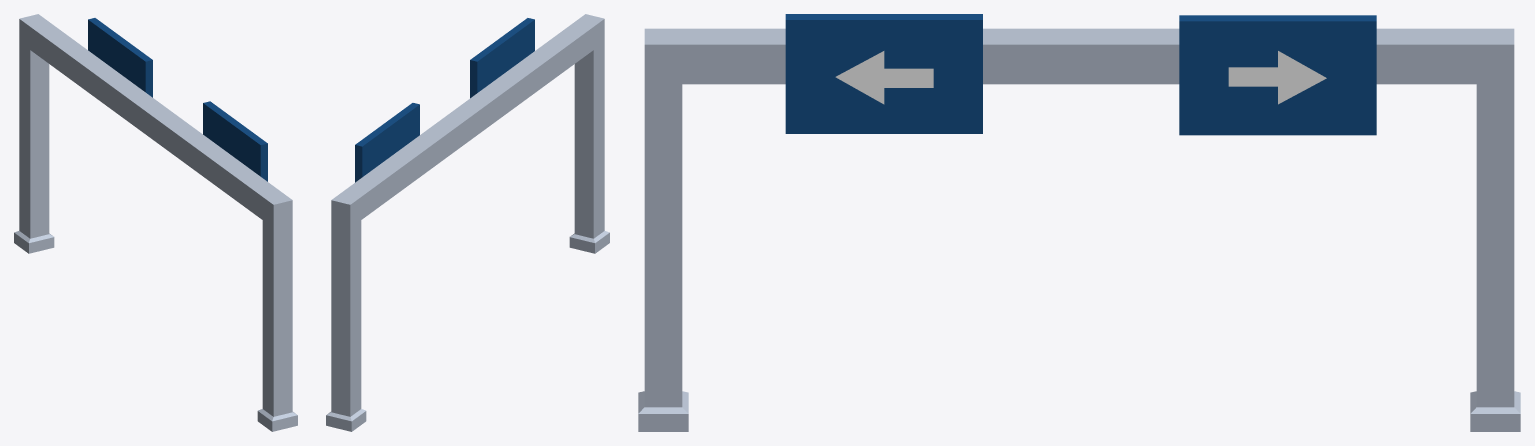
The model's file is direction.fbx.
3 views of the same model, side by side, from view 1: azimuth 30°, elevation 25°; view 2: azimuth 150°, elevation 25°; view 3: azimuth 270°, elevation 25° (orthographic). The views are drawn at different scales.
Visible parts, largest first — view 1: Cube; view 2: Cube; view 3: Cube.
Boxes of the visible parts, <box> form: Cube: <box>14,14,297,431</box>; Cube: <box>326,14,609,431</box>; Cube: <box>638,14,1520,431</box>.
Size of the model in its own units: 0.5017 by 3.05 by 5.76.
